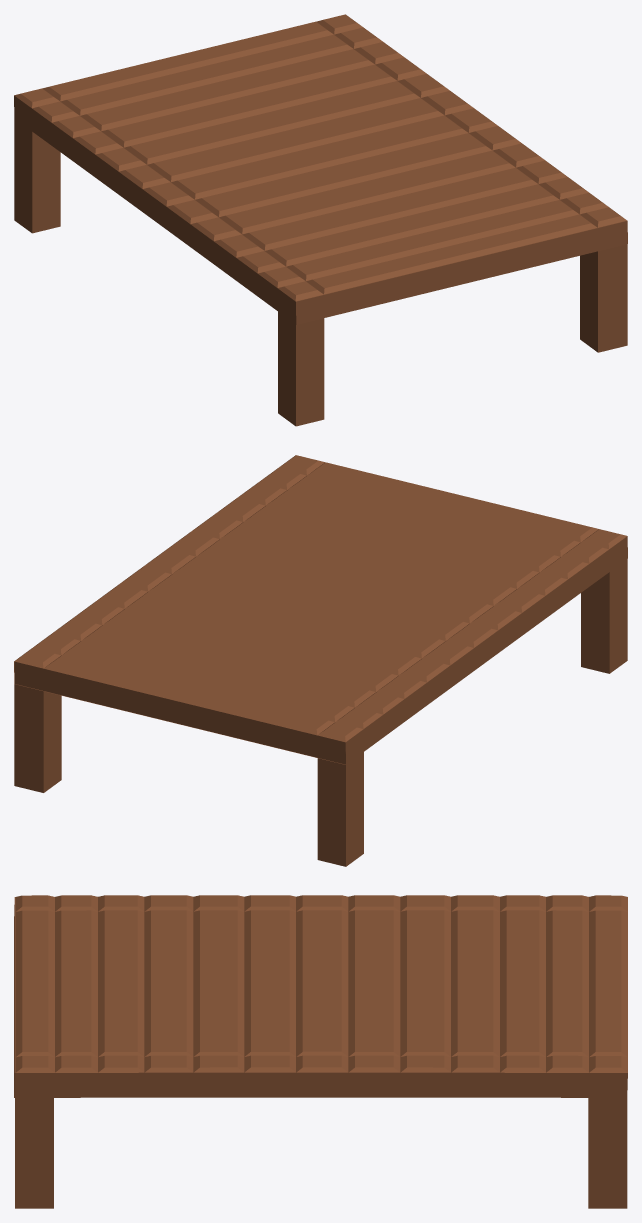
The model's file is Party Table.fbx.
The picture shows the model from 3 angles, top to bottom: view 1: azimuth 30°, elevation 25°; view 2: azimuth 150°, elevation 25°; view 3: azimuth 270°, elevation 25°; orthographic projection. The views are drawn at different scales.
Parts seen in each view (by area): view 1: Table; view 2: Table; view 3: Table.
Boxes of the visible parts, x1,y1,x2,y2 form: Table: (14,14,627,426); Table: (14,455,627,866); Table: (14,895,627,1208).
Size of the model in its own units: 446 by 165 by 657.
